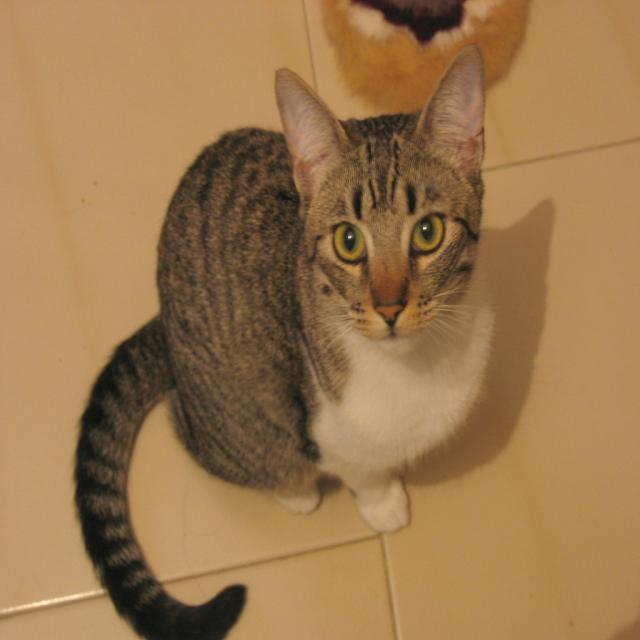cat: (73, 42, 497, 639)
